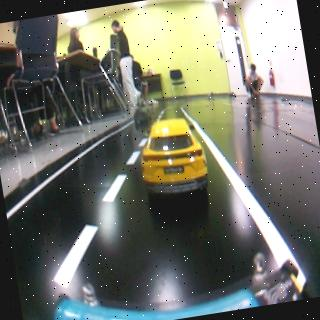car: (136, 116, 208, 194), (130, 107, 152, 127)
